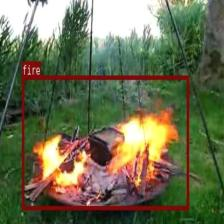fire: (22, 75, 188, 209)
